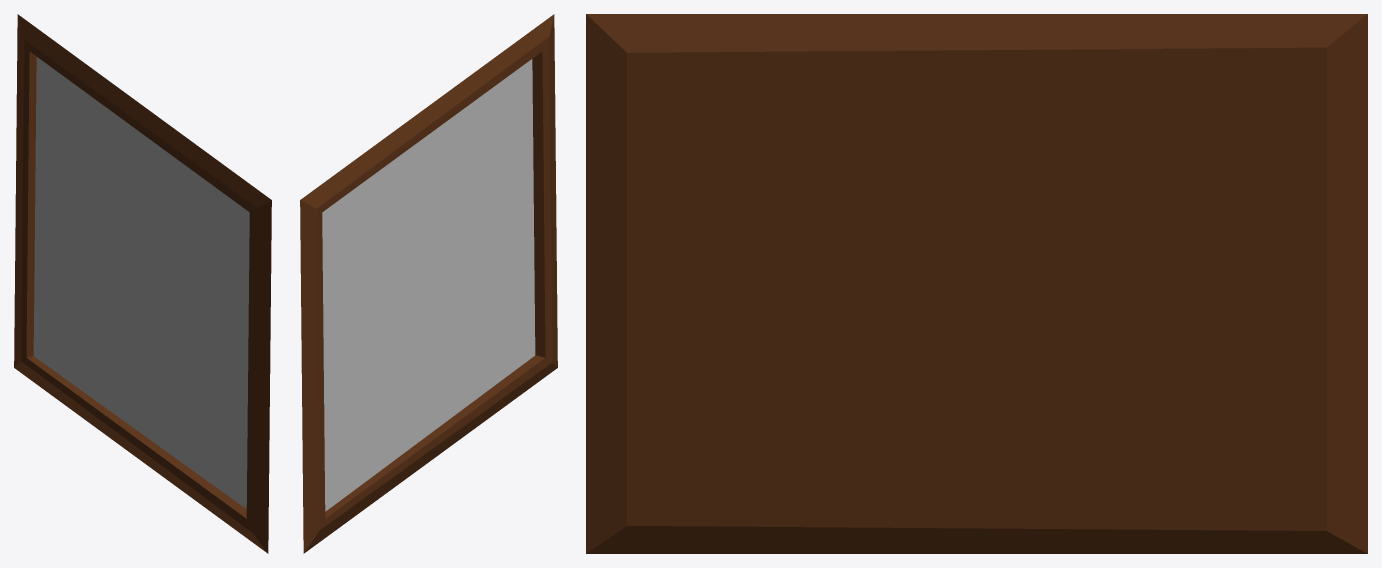
Rendered from map.fbx.
3 renders of one model, left to right at view 1: azimuth 30°, elevation 25°; view 2: azimuth 150°, elevation 25°; view 3: azimuth 270°, elevation 25°, orthographic. The views are drawn at different scales.
Parts seen in each view (by area): view 1: map; view 2: map; view 3: map.
Part boxes in pixels (x1=…): map: x1=14, y1=14, x2=271, y2=553; map: x1=300, y1=14, x2=557, y2=553; map: x1=586, y1=14, x2=1367, y2=553.
Bounding box in the file's own units: 7.85 × 176 × 229.
